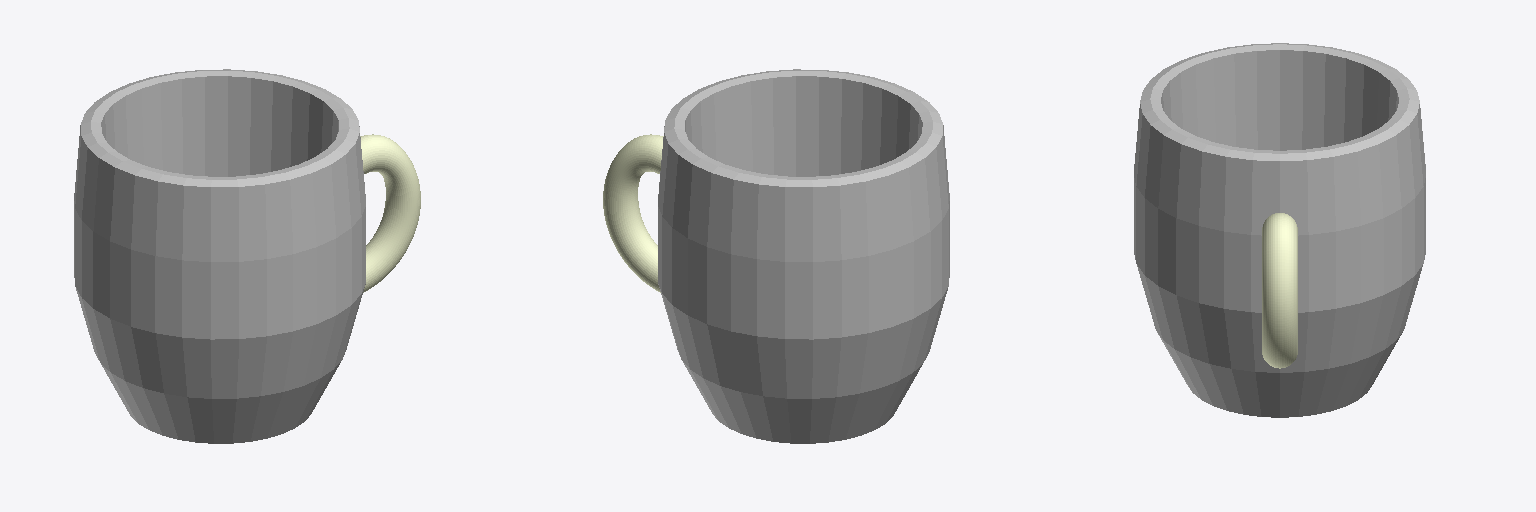
Rendered from кружка1.obj.
3 renders of one model, left to right at view 1: azimuth 30°, elevation 25°; view 2: azimuth 150°, elevation 25°; view 3: azimuth 270°, elevation 25°, orthographic.
Visible parts, largest first — view 1: Cylinder; view 2: Cylinder; view 3: Cylinder.
Boxes of the visible parts, box(x1,y1,x2,y2) form: Cylinder: box(74, 69, 420, 443); Cylinder: box(603, 69, 949, 443); Cylinder: box(1134, 43, 1425, 417).
Bounding box in the file's own units: 1.35 × 1.1 × 1.05.